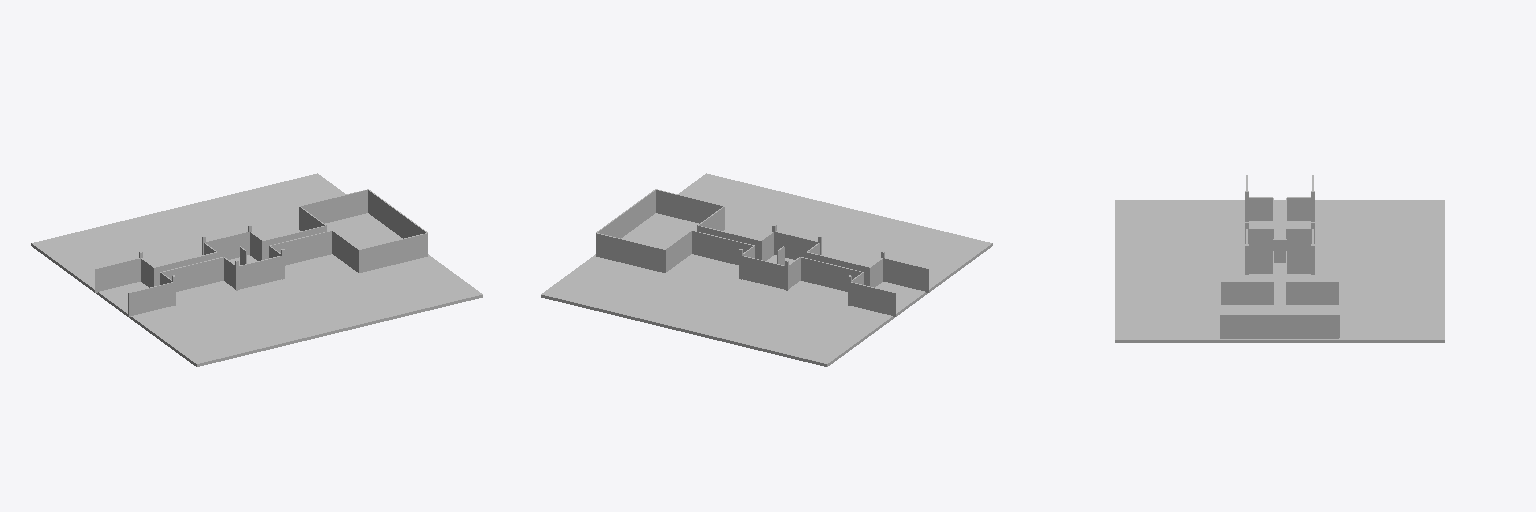
The model's file is Map_Reactive.OBJ.
3 renders of one model, left to right at view 1: azimuth 30°, elevation 25°; view 2: azimuth 150°, elevation 25°; view 3: azimuth 270°, elevation 25°, orthographic.
Parts seen in each view (by area): view 1: UnrealEdObject; view 2: UnrealEdObject; view 3: UnrealEdObject.
Part boxes in pixels (bbox=[...]): UnrealEdObject: bbox=[31, 173, 482, 366]; UnrealEdObject: bbox=[541, 173, 992, 366]; UnrealEdObject: bbox=[1115, 175, 1444, 342].
Bounding box in the file's own units: 5041 × 538 × 5000.